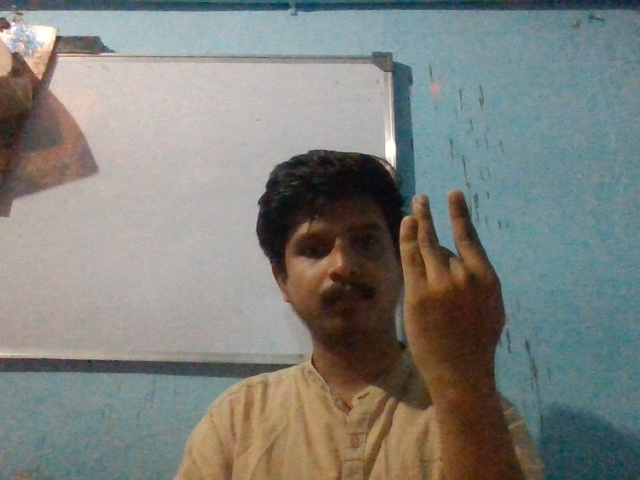Akash: (389, 193, 519, 394)
